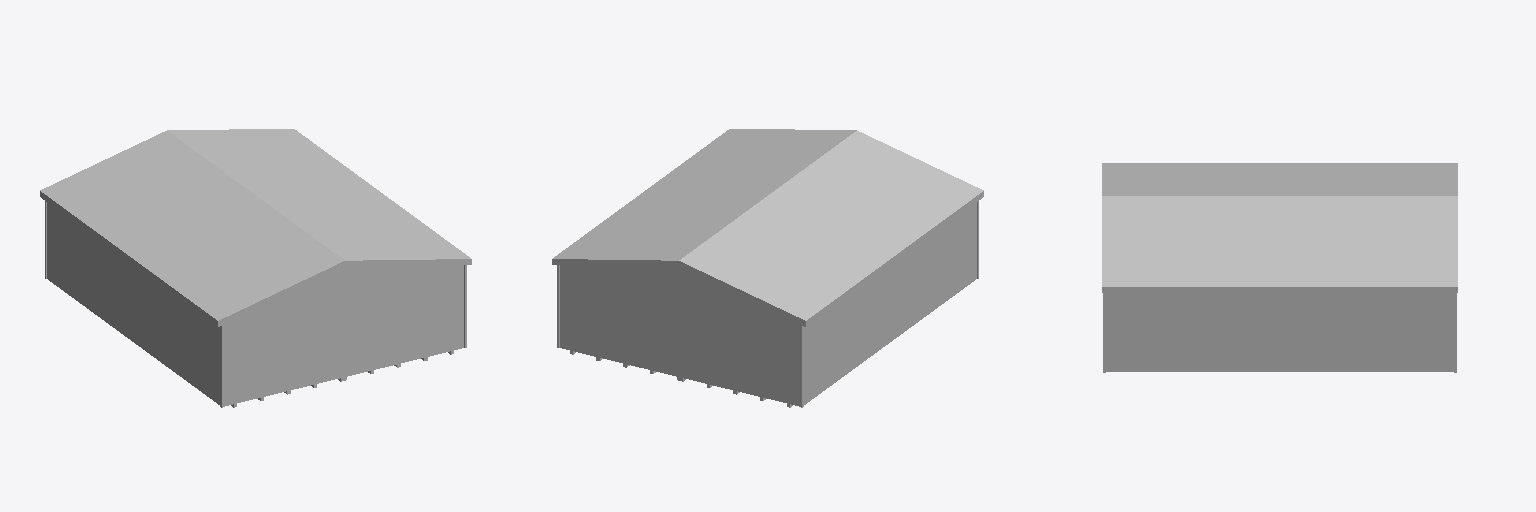
The model's file is Double Garage 3-12 PITCH ROOF_24x30.obj.
The picture shows the model from 3 angles: view 1: azimuth 30°, elevation 25°; view 2: azimuth 150°, elevation 25°; view 3: azimuth 270°, elevation 25°; orthographic projection.
Parts seen in each view (by area): view 1: Double Garage 3-12 PITCH ROOF_24x30.obj; view 2: Double Garage 3-12 PITCH ROOF_24x30.obj; view 3: Double Garage 3-12 PITCH ROOF_24x30.obj.
Boxes of the visible parts, box(x1,y1,x2,y2) form: Double Garage 3-12 PITCH ROOF_24x30.obj: box(40, 129, 471, 407); Double Garage 3-12 PITCH ROOF_24x30.obj: box(552, 129, 983, 407); Double Garage 3-12 PITCH ROOF_24x30.obj: box(1102, 163, 1457, 372).
Bounding box in the file's own units: 7.62 × 3.46 × 9.25.